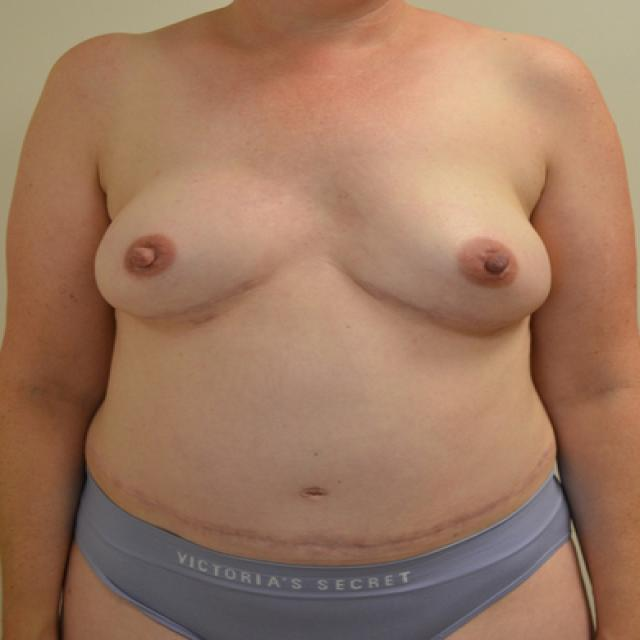Seno ileso: (316, 151, 558, 351), (88, 151, 303, 338)
